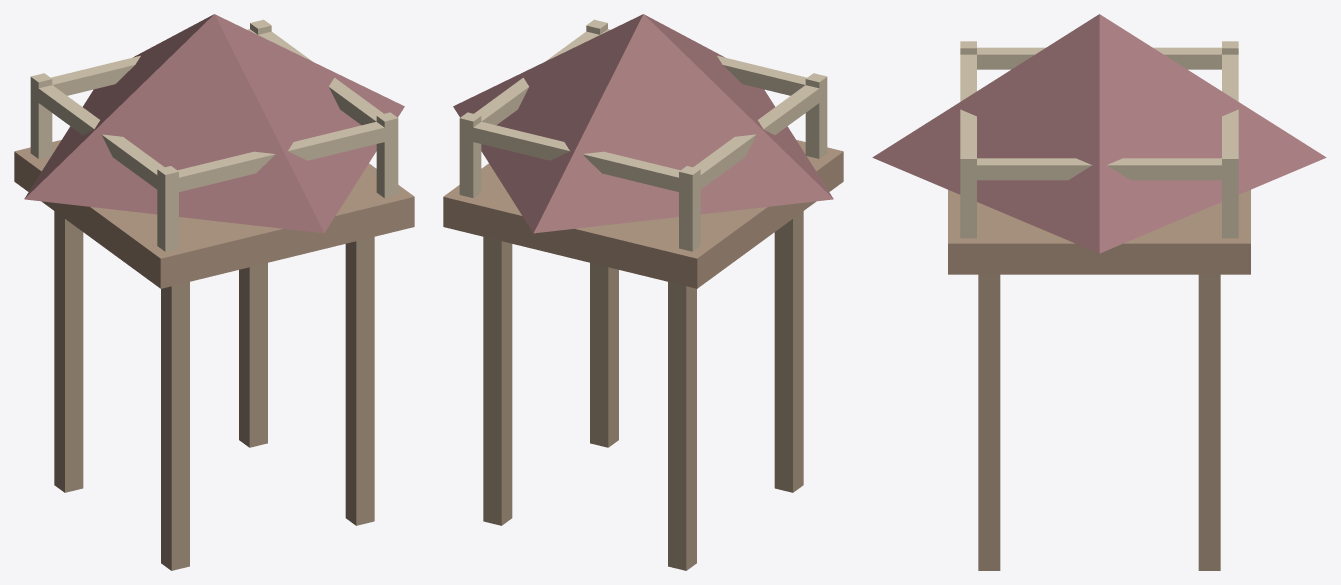
File: warlike-watchtower-3d.gltf
The picture shows the model from 3 angles, left to right: view 1: azimuth 30°, elevation 25°; view 2: azimuth 150°, elevation 25°; view 3: azimuth 270°, elevation 25°; orthographic projection. The views are drawn at different scales.
Visible parts, largest first — view 1: Part 5, Part 4, Part 3, Part 1, Part 0, Part 2, Part 11, Part 12, Part 7, Part 9, Part 10, Part 6 (+1 smaller); view 2: Part 5, Part 4, Part 2, Part 0, Part 1, Part 3, Part 10, Part 12, Part 6, Part 8, Part 11, Part 13 (+1 smaller); view 3: Part 5, Part 4, Part 2, Part 3, Part 13, Part 12, Part 9, Part 8, Part 10, Part 11.
Part boxes in pixels (x1,y1,x2,y2): Part 5: (24, 14, 404, 233); Part 4: (14, 140, 414, 288); Part 3: (345, 237, 374, 525); Part 1: (161, 282, 189, 570); Part 0: (54, 211, 83, 492); Part 2: (239, 263, 267, 447); Part 11: (170, 122, 394, 193); Part 12: (33, 84, 164, 193); Part 7: (157, 166, 178, 251); Part 9: (376, 112, 398, 198); Part 10: (51, 29, 257, 95); Part 6: (30, 73, 52, 158); Part 5: (453, 14, 833, 233); Part 4: (443, 140, 843, 288); Part 2: (483, 237, 512, 525); Part 0: (668, 282, 696, 570); Part 1: (774, 211, 803, 492); Part 3: (590, 263, 618, 447); Part 10: (463, 122, 688, 193); Part 12: (693, 84, 824, 193); Part 6: (679, 166, 700, 251); Part 8: (459, 112, 481, 198); Part 11: (600, 29, 806, 95); Part 13: (474, 31, 599, 125); Part 5: (872, 14, 1326, 253); Part 4: (948, 190, 1250, 274); Part 2: (1198, 274, 1220, 570); Part 3: (978, 274, 1000, 570); Part 13: (965, 158, 1233, 180); Part 12: (977, 47, 1221, 69); Part 9: (960, 152, 976, 238); Part 8: (1222, 152, 1238, 238); Part 10: (1222, 54, 1238, 151); Part 11: (960, 54, 976, 151).
Bounding box in the file's own units: 3.3 × 4.05 × 3.3.
